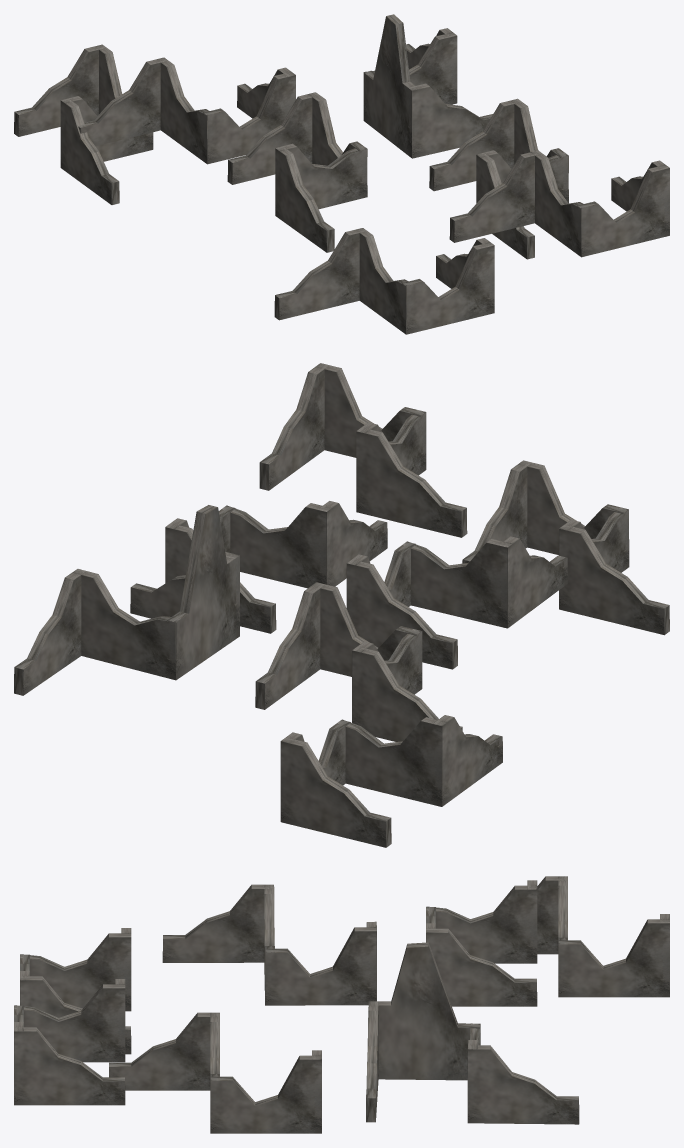
Rendered from housestumps.gltf.
The picture shows the model from 3 angles, top to bottom: view 1: azimuth 30°, elevation 25°; view 2: azimuth 150°, elevation 25°; view 3: azimuth 270°, elevation 25°; orthographic projection. The views are drawn at different scales.
Visible parts, largest first — view 1: housestumps_atomic0; view 2: housestumps_atomic0; view 3: housestumps_atomic0.
Boxes of the visible parts, x1,y1,x2,y2 form: housestumps_atomic0: (14,14,669,334); housestumps_atomic0: (14,363,669,847); housestumps_atomic0: (14,876,669,1133).
Size of the model in its own units: 70.68 by 26.75 by 103.
1 material, 1 textured.
